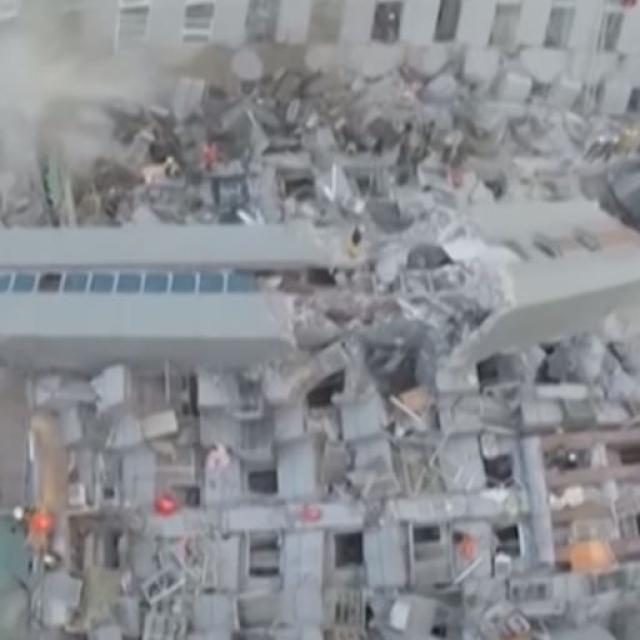collapsed_building: (0, 0, 638, 639)
